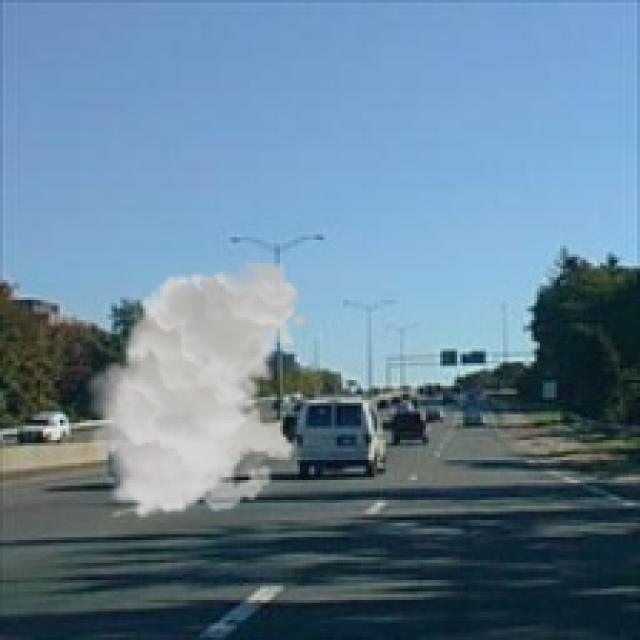smoke: (80, 260, 309, 520)
